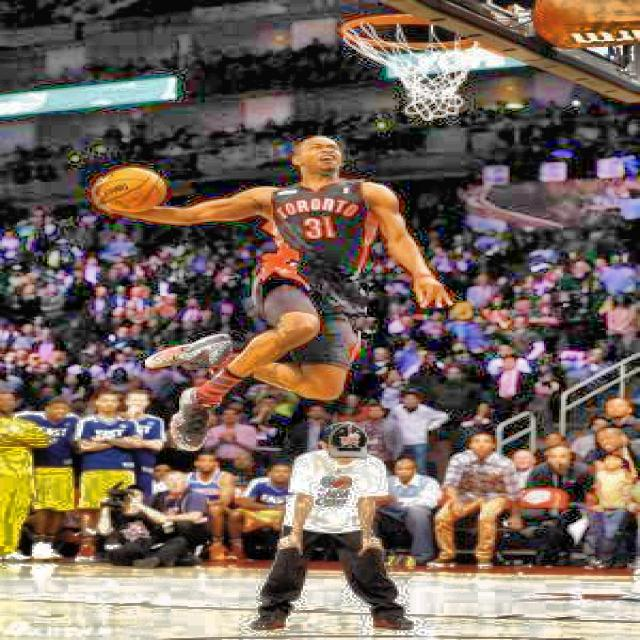board: (96, 166, 166, 216)
rim: (342, 16, 481, 120)
